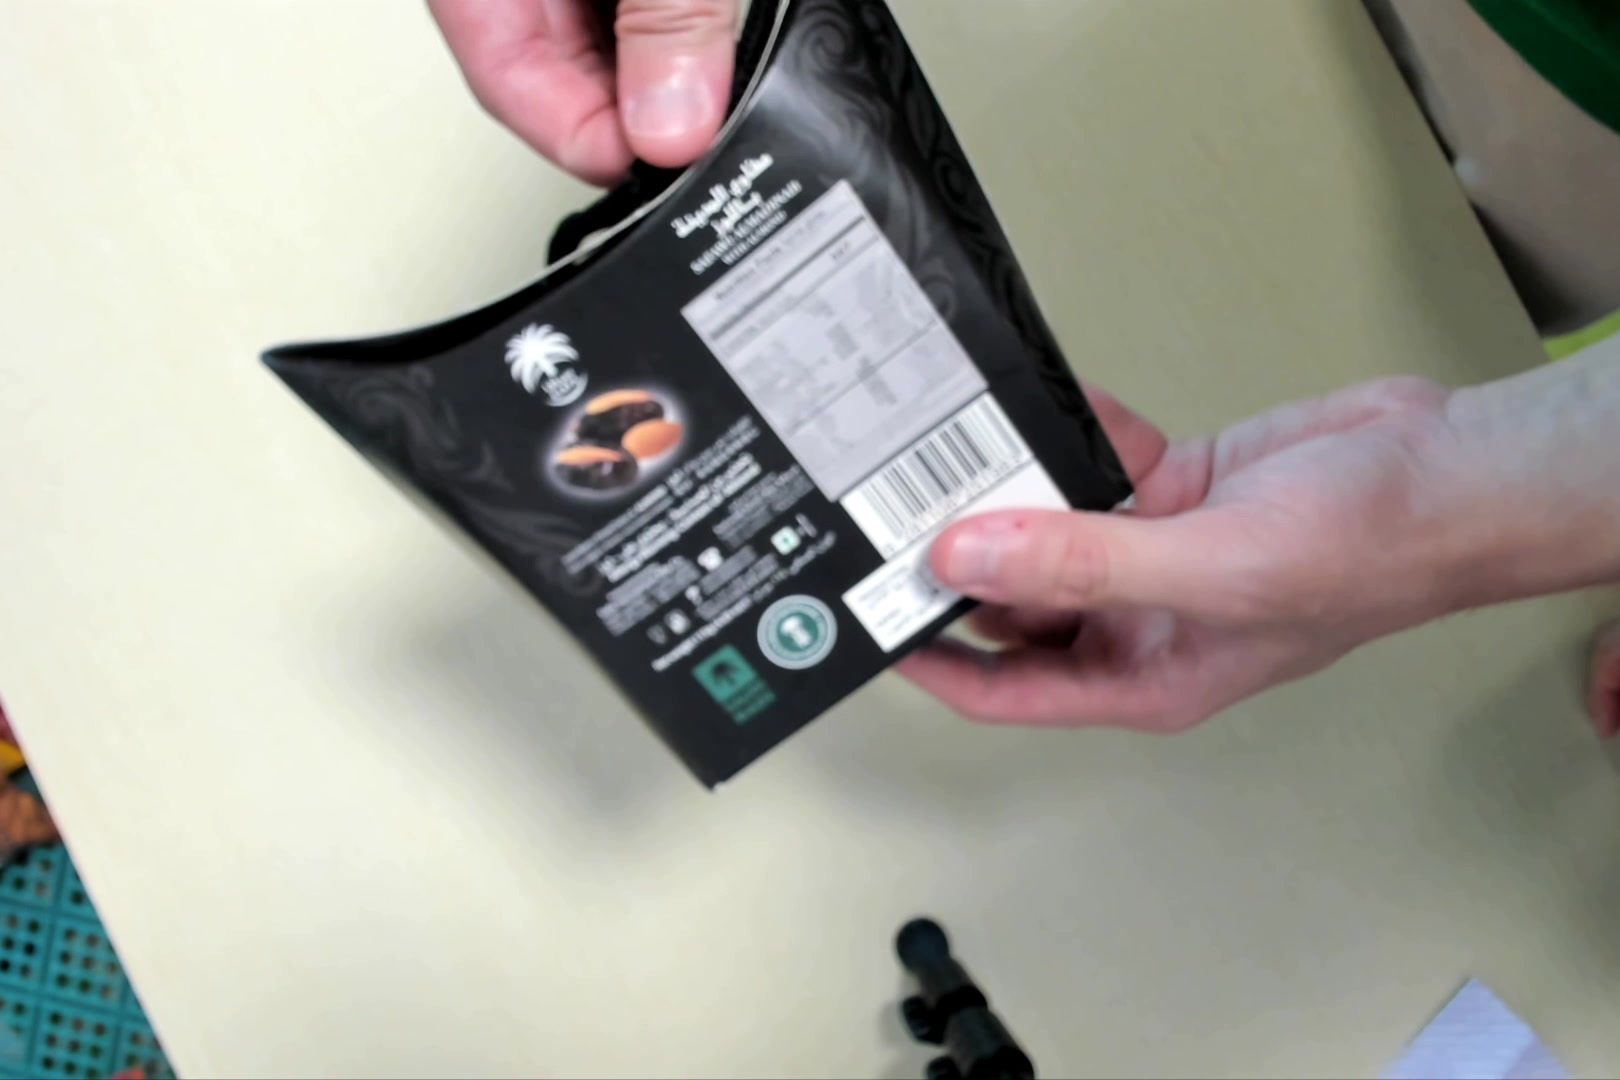DriedFood_100-199g_NonHalal_NonHealthy: (265, 1, 1128, 808)
